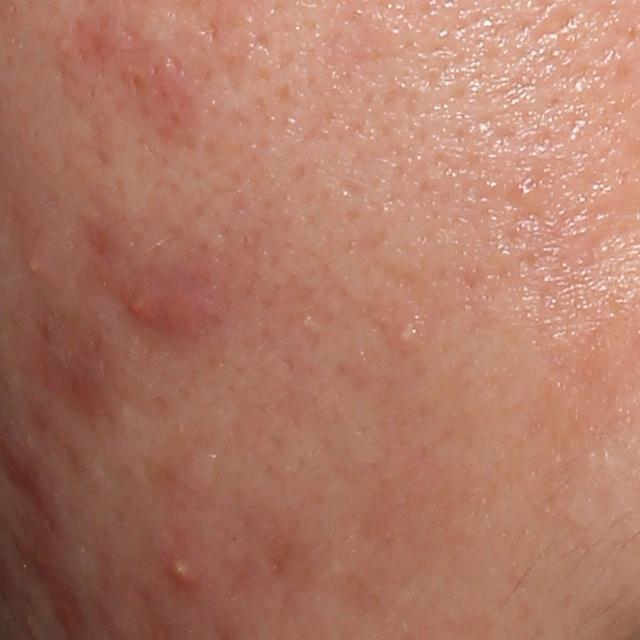comedo: (510, 176, 538, 205)
papule: (117, 287, 153, 325), (31, 541, 60, 582)
pustule: (168, 553, 202, 594)
